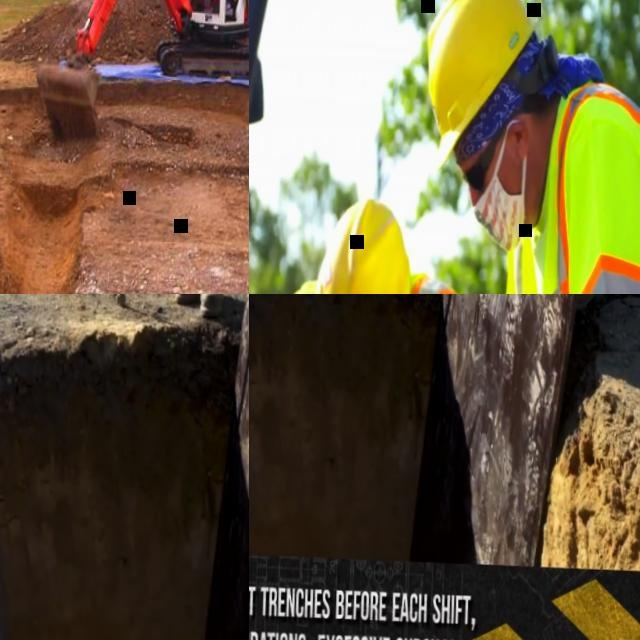Hardhat: (422, 0, 538, 169), (308, 196, 414, 294)
Mask: (469, 116, 531, 254)
Person: (409, 0, 640, 294), (249, 190, 506, 294)
Safety Vest: (484, 75, 640, 294)
machinery: (30, 0, 249, 154)
